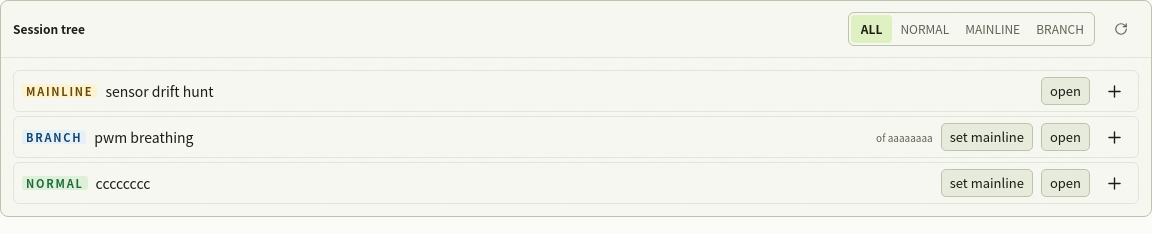
Test: SessionTree › narrows to one kind
Click the radio button labelled "BRANCH" at (1060, 29), box [1028, 15, 1092, 43]
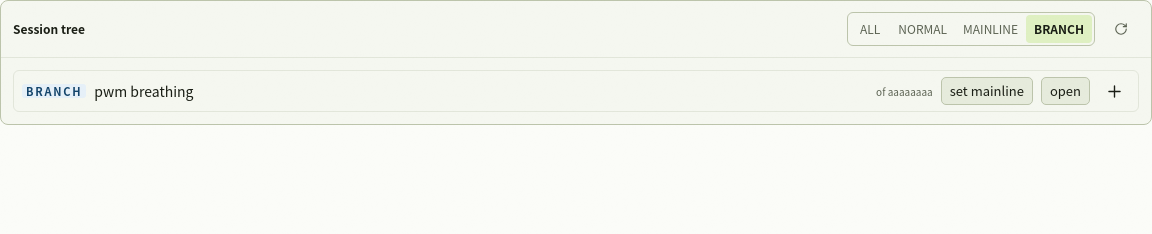
Check: the text "pwm breathing" is shown, box [94, 81, 194, 101]
Check: the text "sensor drift hunt" is gone
